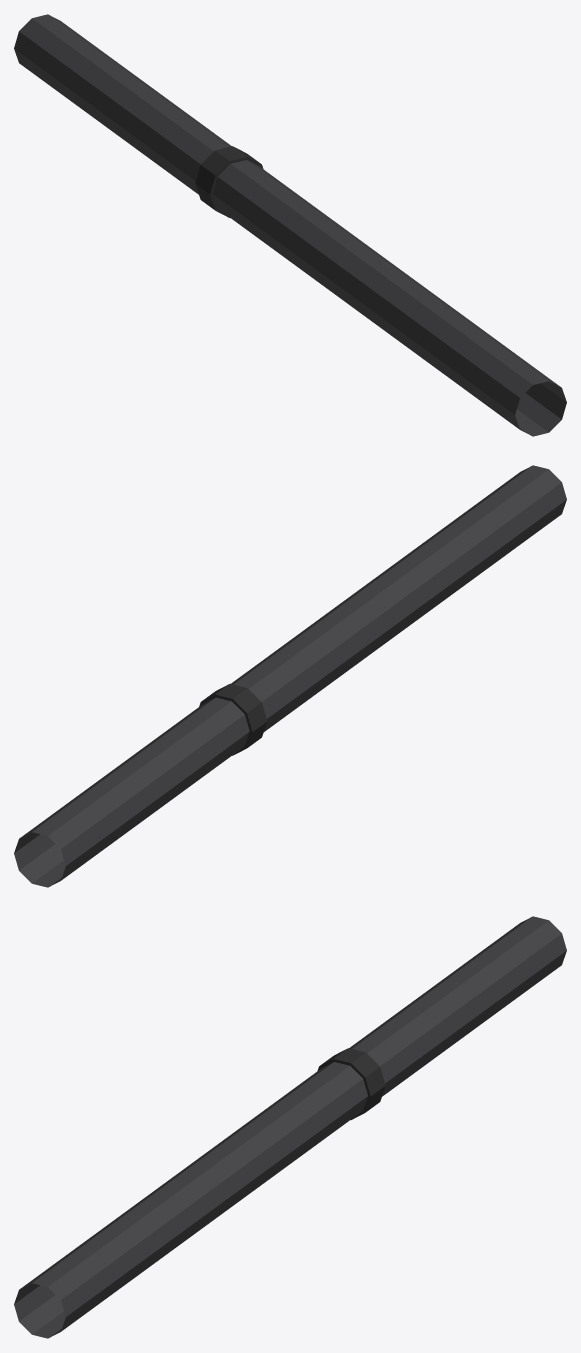
The model's file is SmallPipe02T1.fbx.
3 renders of one model, top to bottom at view 1: azimuth 30°, elevation 25°; view 2: azimuth 150°, elevation 25°; view 3: azimuth 330°, elevation 25°, orthographic.
Visible parts, largest first — view 1: SmallPipe02T1; view 2: SmallPipe02T1; view 3: SmallPipe02T1.
Part boxes in pixels (x1,y1,x2,y2): SmallPipe02T1: (14, 14, 566, 436); SmallPipe02T1: (14, 465, 566, 887); SmallPipe02T1: (14, 916, 566, 1338).
Size of the model in its own units: 15.68 by 14.91 by 238.
